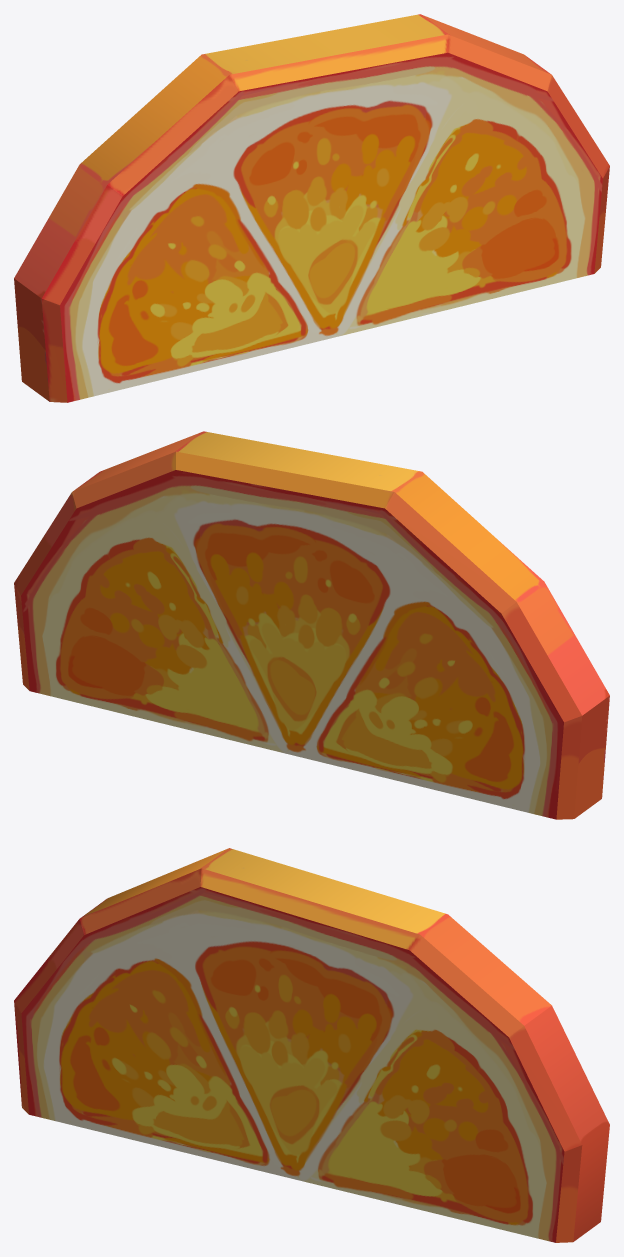
Rendered from orange2.fbx.
3 views of the same model, one above another, from view 1: azimuth 30°, elevation 25°; view 2: azimuth 150°, elevation 25°; view 3: azimuth 330°, elevation 25° (orthographic).
Visible parts, largest first — view 1: Box001; view 2: Box001; view 3: Box001.
Boxes of the visible parts, x1,y1,x2,y2 form: Box001: (14, 14, 609, 402); Box001: (14, 431, 609, 819); Box001: (14, 848, 609, 1242).
Bounding box in the file's own units: 107 × 50.99 × 12.55.
1 material, 1 textured.
